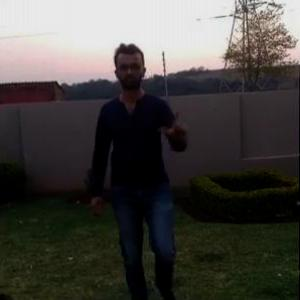land_hand: (152, 98, 190, 139)
